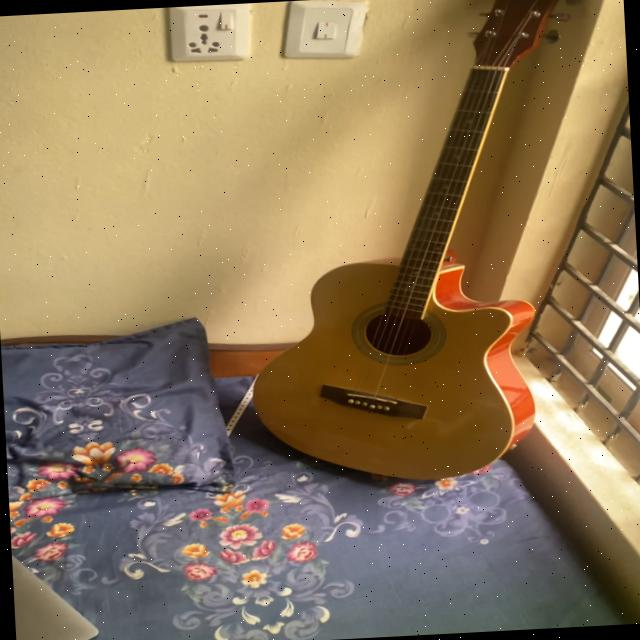guitar: (248, 0, 593, 501)
